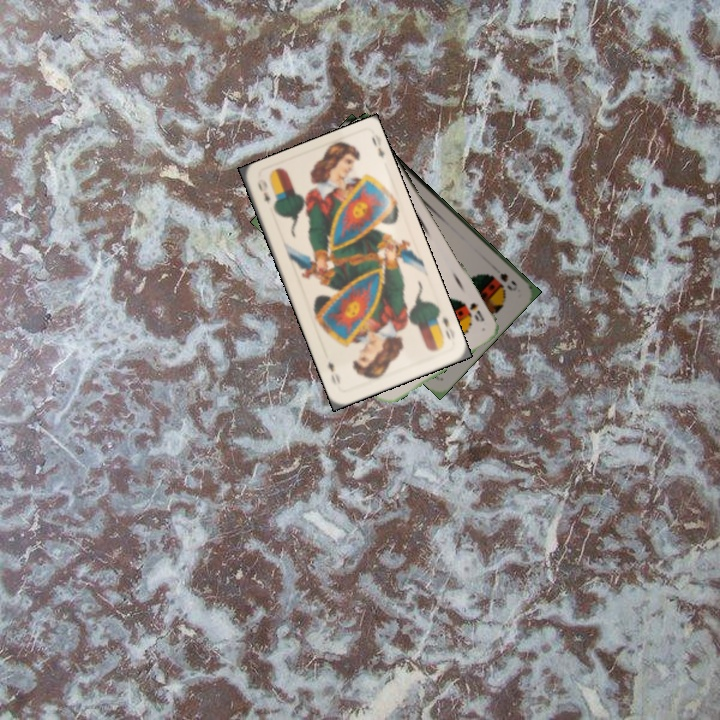EO: (432, 308, 453, 347), (253, 175, 273, 207)
SO: (496, 269, 520, 294), (466, 298, 487, 324)
